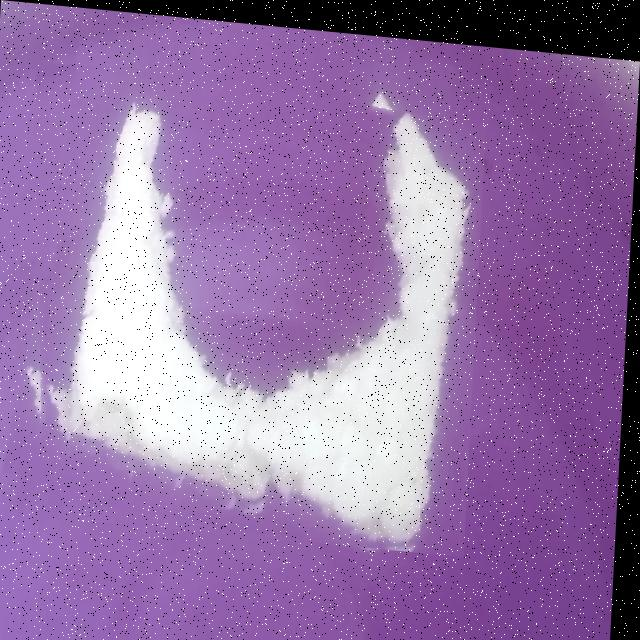thermocoal: (17, 45, 487, 547)
